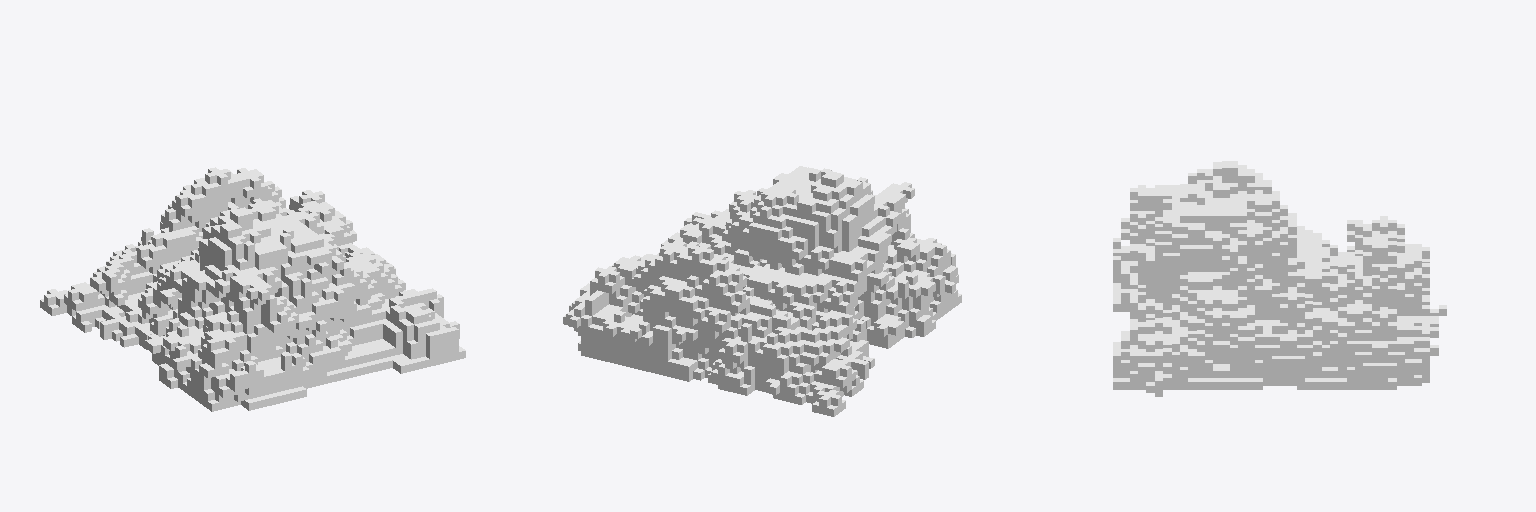
Rendered from moon1.obj.
3 views of the same model, side by side, from view 1: azimuth 30°, elevation 25°; view 2: azimuth 150°, elevation 25°; view 3: azimuth 270°, elevation 25° (orthographic).
Visible parts, largest first — view 1: object 1; view 2: object 1; view 3: object 1.
Part boxes in pixels (x1,y1,x2,y2): object 1: (40, 167, 465, 411); object 1: (563, 166, 961, 416); object 1: (1113, 161, 1446, 396).
Bounding box in the file's own units: 3.9 × 1.9 × 4.